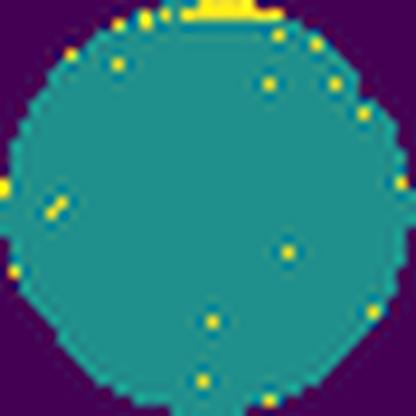Edge-Loc: (173, 0, 283, 32)
